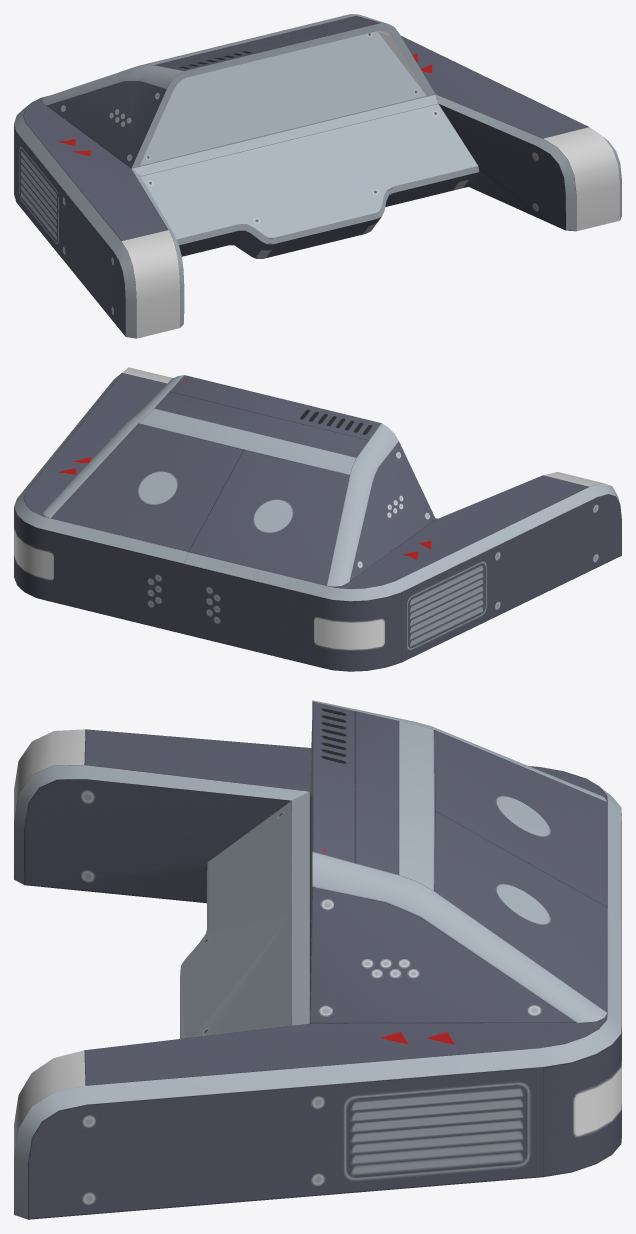
File: Cockpit_Tech_02.FBX
The picture shows the model from 3 angles, top to bottom: view 1: azimuth 30°, elevation 25°; view 2: azimuth 150°, elevation 25°; view 3: azimuth 270°, elevation 25°; orthographic projection. The views are drawn at different scales.
Visible parts, largest first — view 1: Cockpit_Tech_02; view 2: Cockpit_Tech_02; view 3: Cockpit_Tech_02.
Boxes of the visible parts, left/top/right/bottom form: Cockpit_Tech_02: left=14, top=14, right=621, bottom=338; Cockpit_Tech_02: left=14, top=367, right=621, bottom=671; Cockpit_Tech_02: left=14, top=700, right=621, bottom=1219.
Bounding box in the file's own units: 2.48 × 0.8433 × 1.69.
